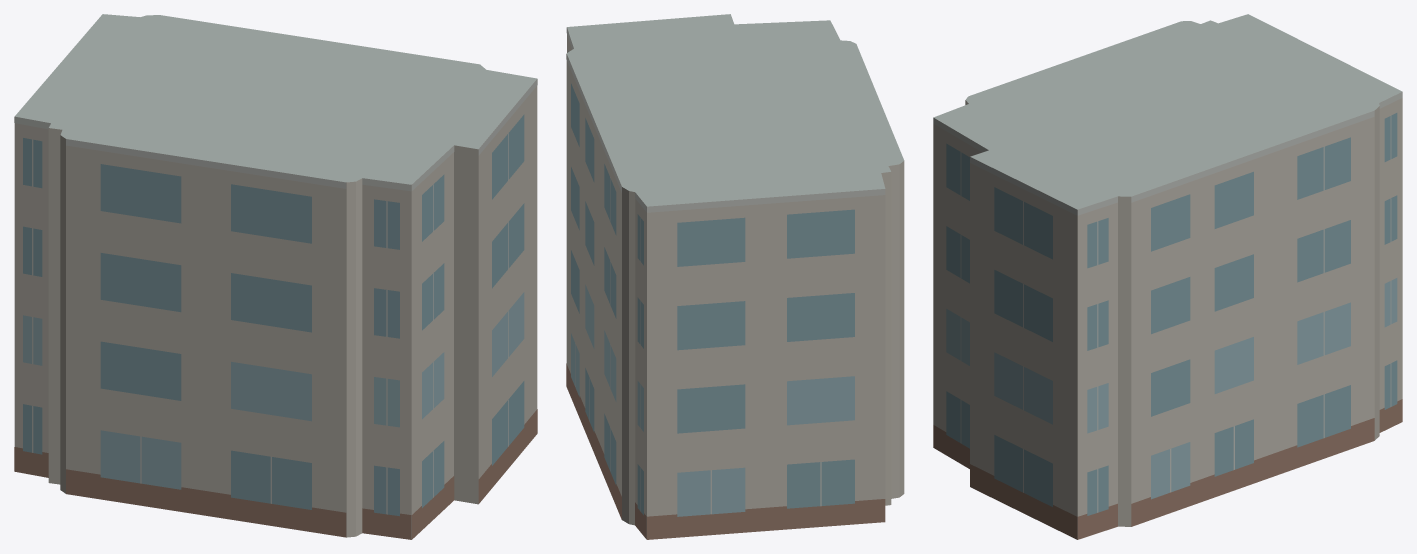
The model's file is survey-upis-32680005.glb.
3 renders of one model, left to right at view 1: azimuth 30°, elevation 25°; view 2: azimuth 150°, elevation 25°; view 3: azimuth 270°, elevation 25°, orthographic. The views are drawn at different scales.
Visible parts, largest first — view 1: survey-upis-32680005.tmp; view 2: survey-upis-32680005.tmp; view 3: survey-upis-32680005.tmp.
Part boxes in pixels (x1,y1,x2,y2): survey-upis-32680005.tmp: [14, 14, 537, 539]; survey-upis-32680005.tmp: [566, 14, 904, 539]; survey-upis-32680005.tmp: [933, 14, 1402, 539].
Size of the model in its own units: 16.78 by 13.2 by 17.01.
